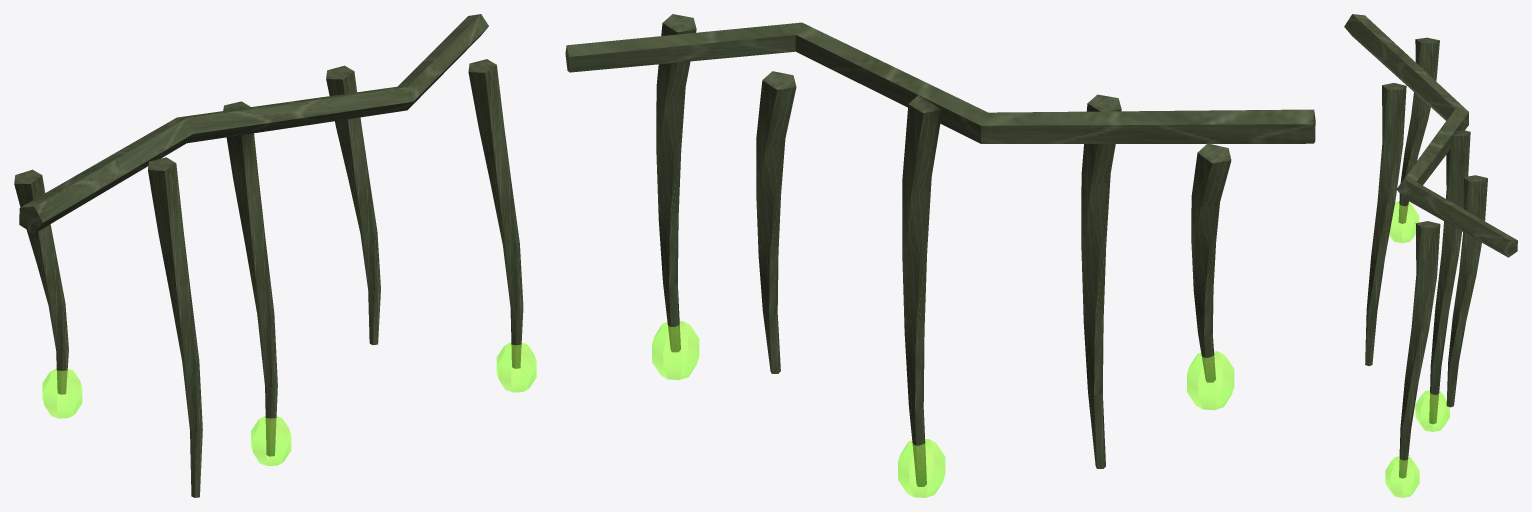
File: vine_ceiling.glb
3 renders of one model, left to right at view 1: azimuth 30°, elevation 25°; view 2: azimuth 150°, elevation 25°; view 3: azimuth 270°, elevation 25°, orthographic. The views are drawn at different scales.
Visible parts, largest first — view 1: VineCeiling; view 2: VineCeiling; view 3: VineCeiling.
Boxes of the visible parts, x1=… form: VineCeiling: x1=14, y1=14, x2=536, y2=497; VineCeiling: x1=565, y1=14, x2=1315, y2=497; VineCeiling: x1=1344, y1=14, x2=1517, y2=497.
Size of the model in its own units: 2.04 by 1.29 by 0.6704.
2 materials, 1 textured.
